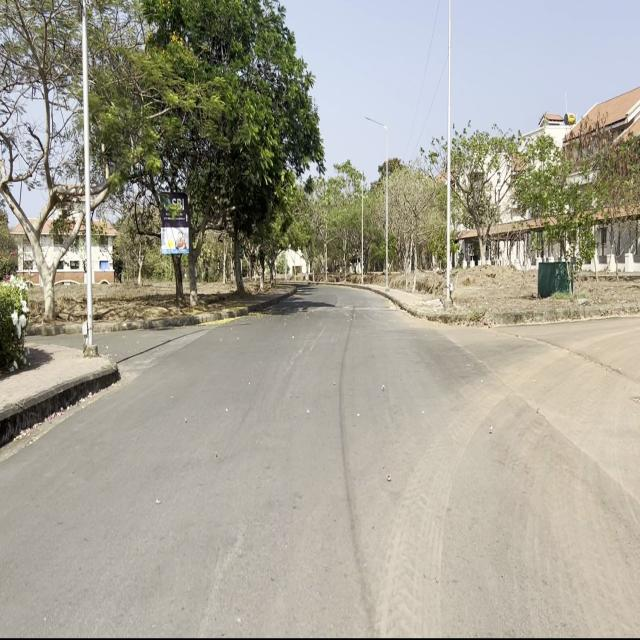Road: (3, 282, 632, 631)
